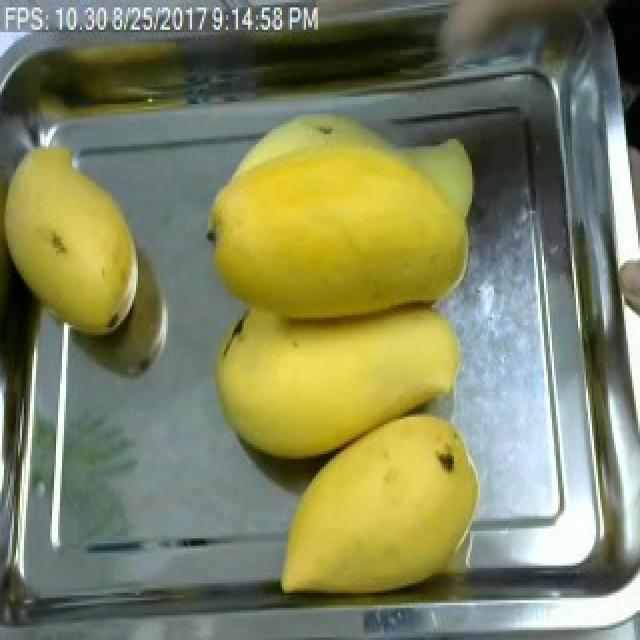fruit: (192, 102, 492, 337), (202, 286, 478, 477), (262, 394, 494, 610), (0, 134, 152, 345), (6, 32, 212, 127)
